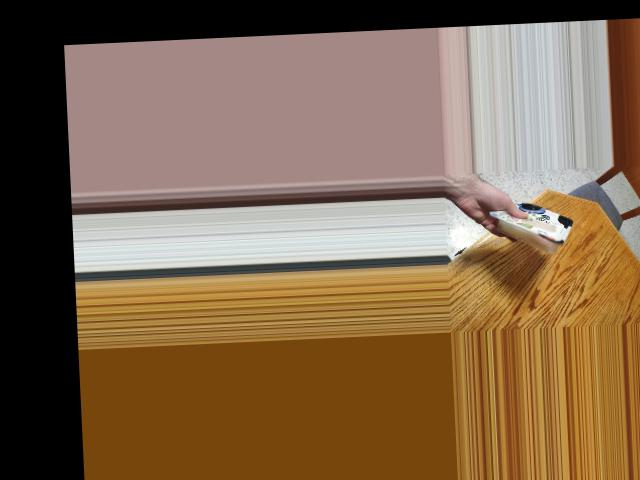cheese: (500, 187, 570, 254)
